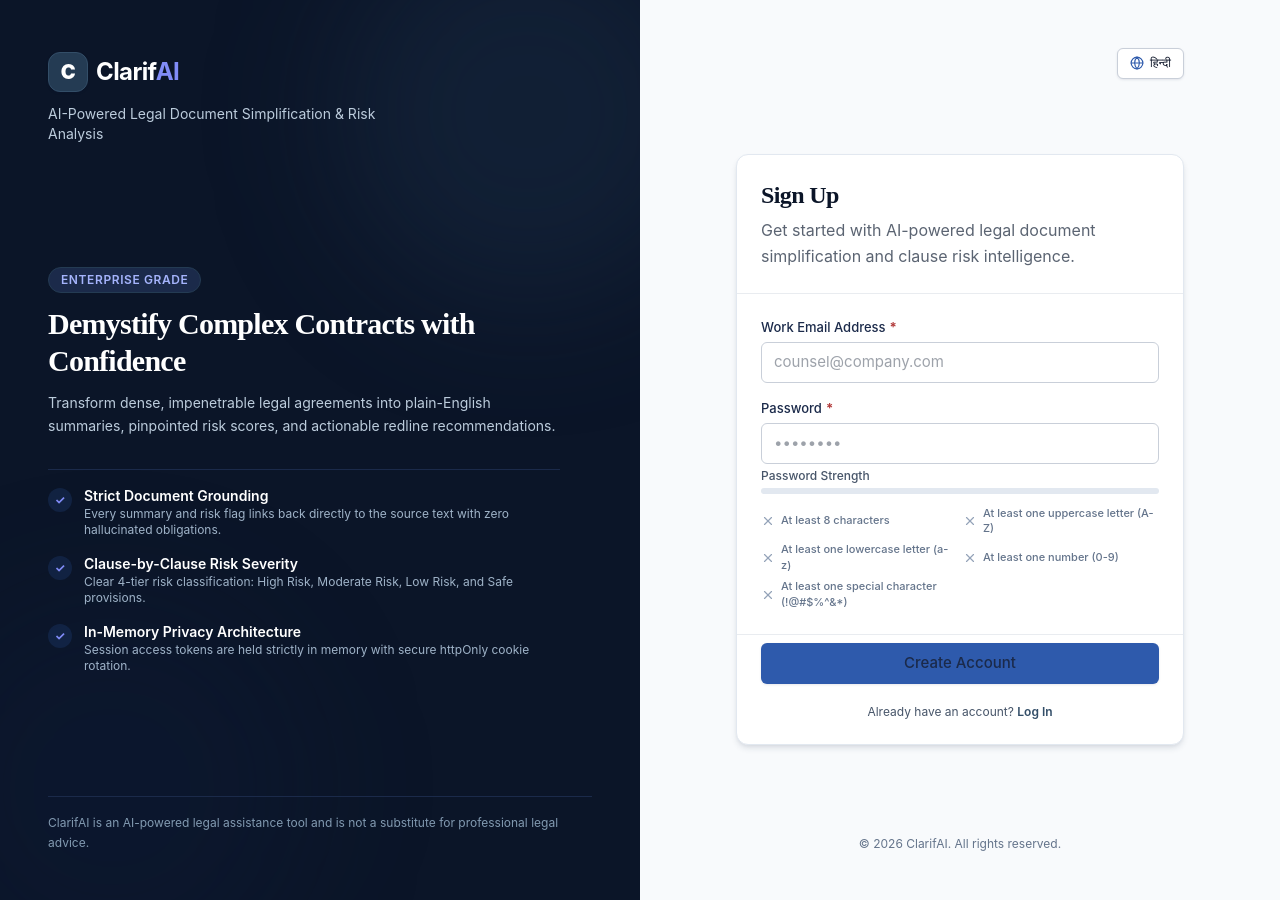
it: Auth Pages (PRD Section 8.1, Ch. 10/11, Ch. 22.2/22.3, Ch. 31) › SignupPage › validates password complexity rules with strength meter feedback
Type "user@clarifai.internal" into the field labelled "Work Email Address *" at (960, 363), box [761,342,1159,383]
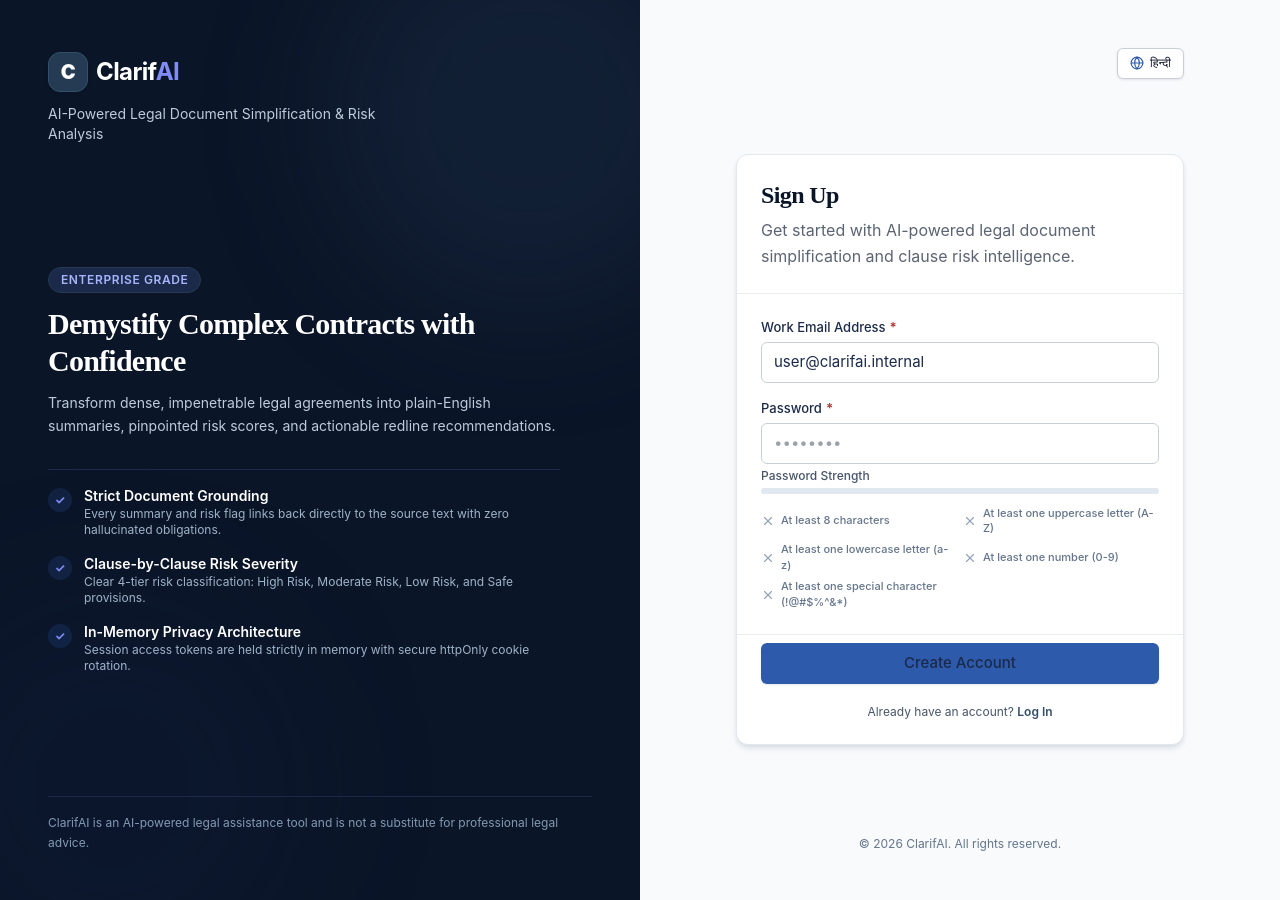
Password lacks uppercase and special char
Type "simple123" into the password field labelled "Password *" at (960, 443), box [761,423,1159,464]
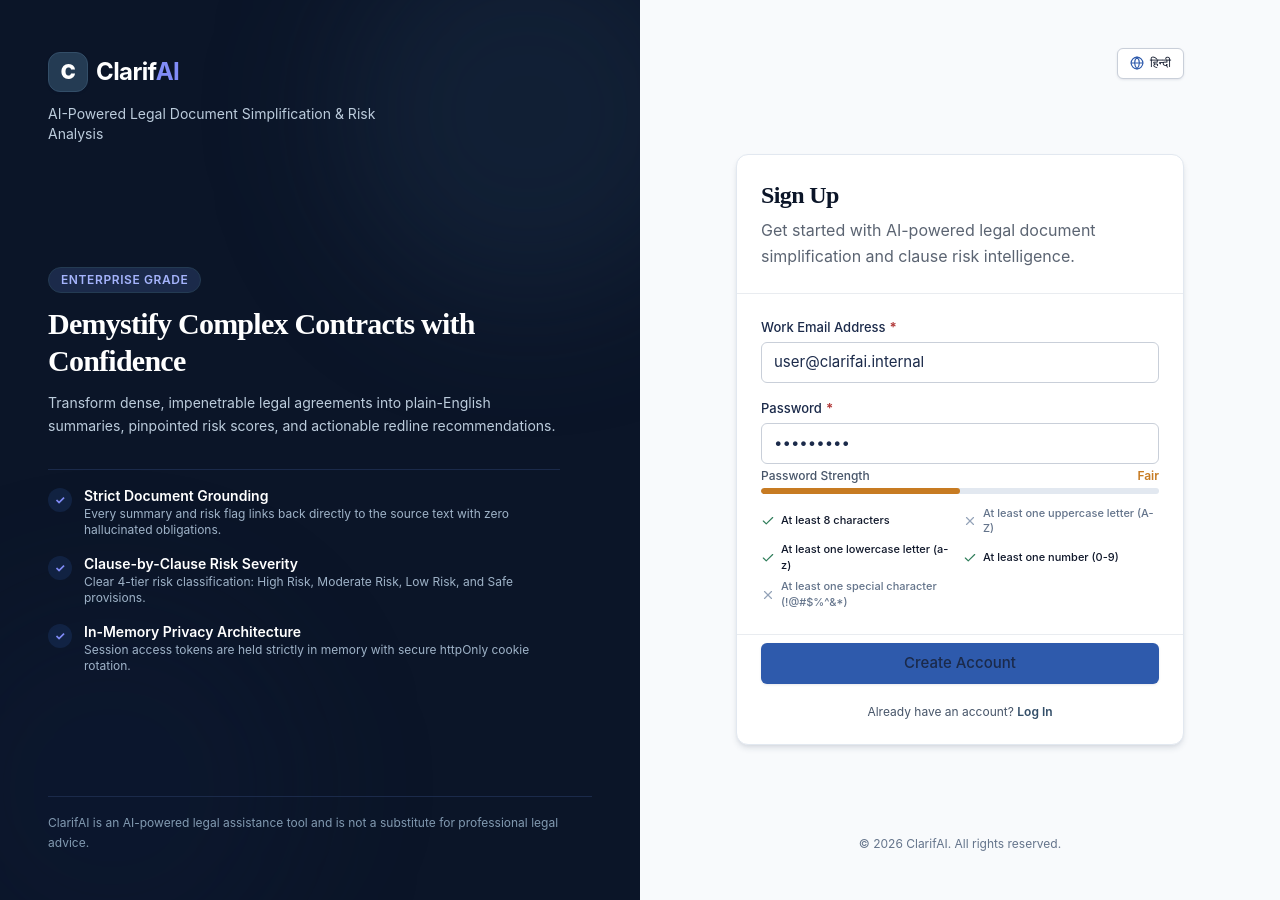
Click the button "Create Account" at (960, 663), box [761,643,1159,684]
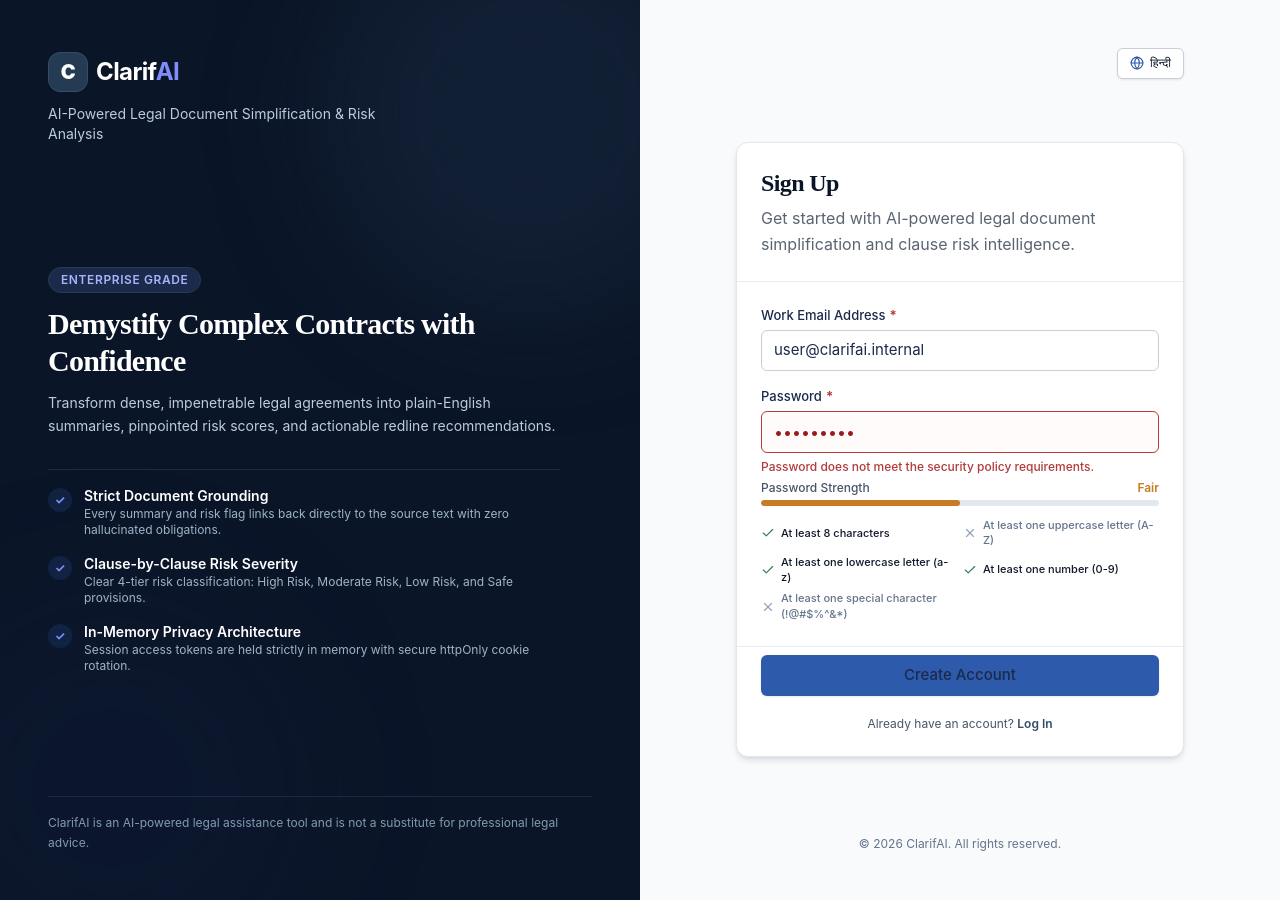
Expected: the text "Password does not meet the security policy requirements." is shown, [761,459,1094,474]
